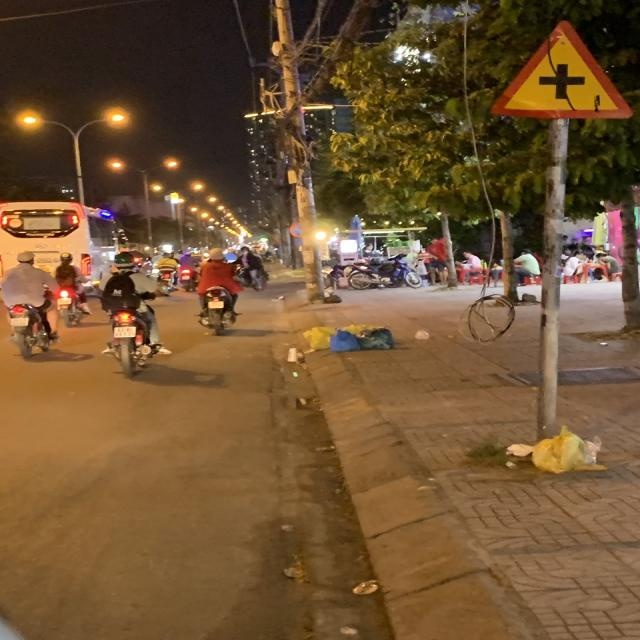bien_cam: (490, 16, 634, 120)
